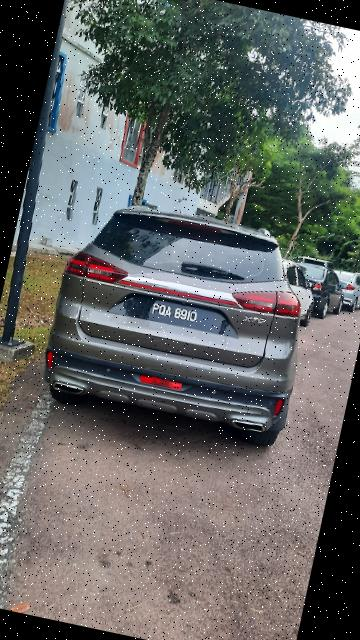License_Plate: (107, 286, 245, 342)
car: (32, 185, 328, 450)
